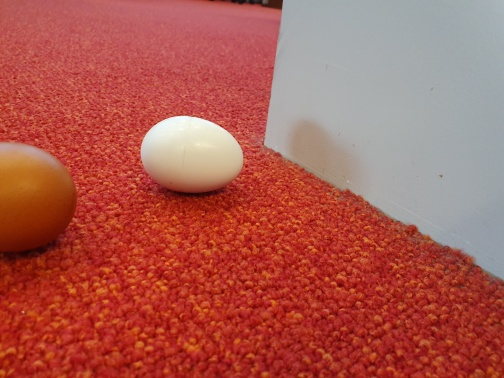egg: (1, 138, 81, 253), (140, 116, 244, 196)
